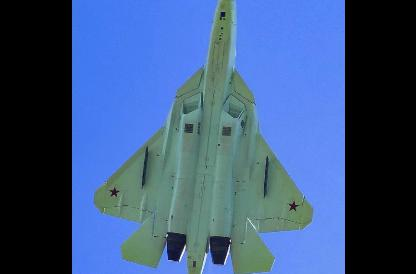SR71: (92, 0, 313, 273)
